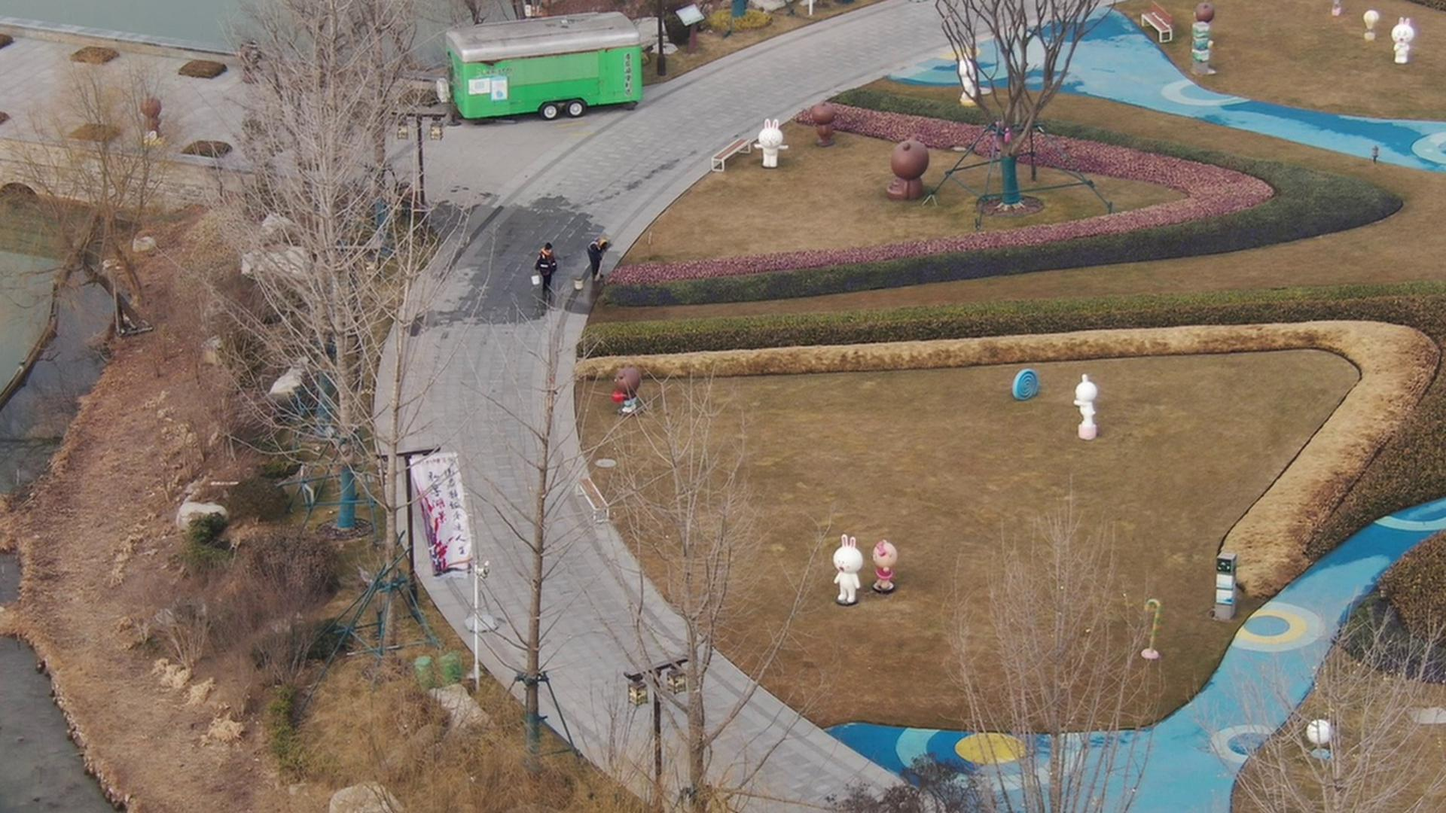human: (527, 233, 561, 303), (579, 224, 611, 279)
